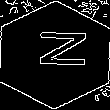N_W: (25, 34, 85, 76)
